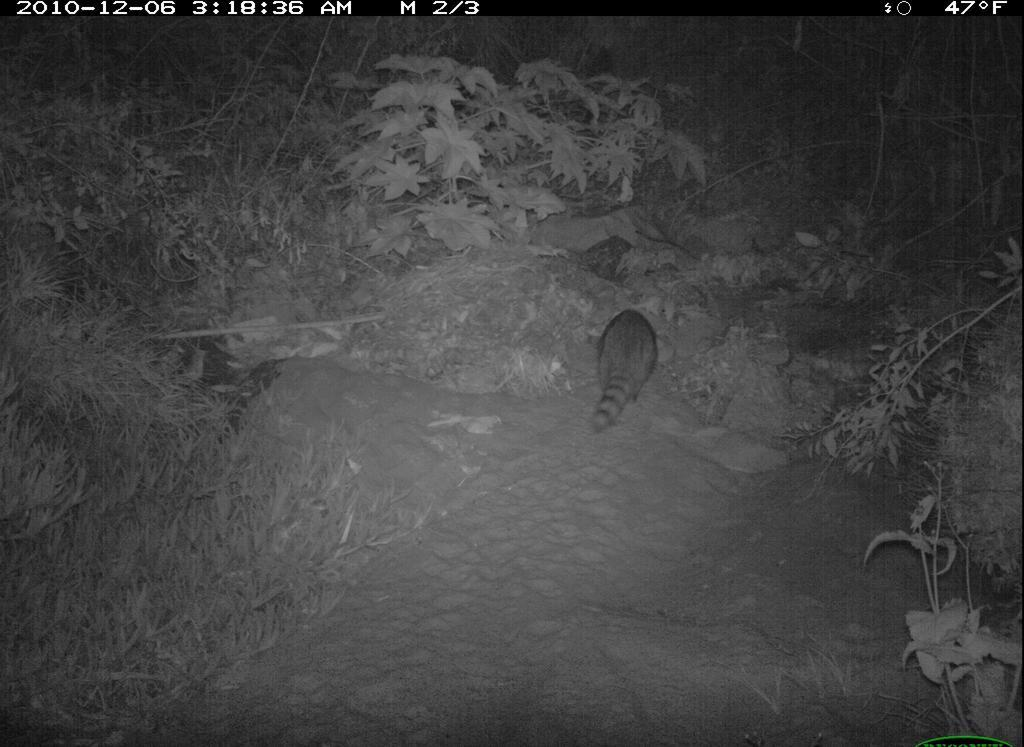raccoon: (585, 290, 666, 441)
